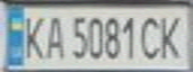0: (84, 12, 106, 61)
1: (121, 12, 142, 61)
5: (66, 11, 87, 61)
8: (103, 12, 124, 61)
A: (42, 11, 69, 61)
C: (139, 11, 163, 61)
K: (157, 10, 190, 61), (18, 11, 48, 61)
